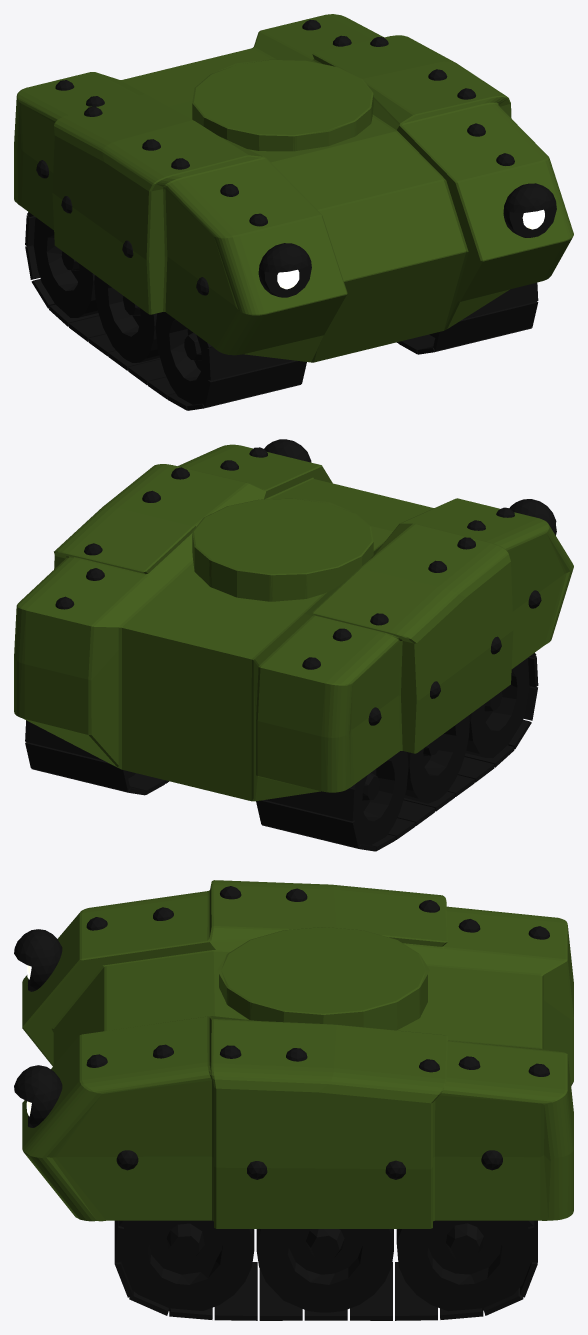
Rendered from tank_green.gltf.
3 views of the same model, one above another, from view 1: azimuth 30°, elevation 25°; view 2: azimuth 150°, elevation 25°; view 3: azimuth 270°, elevation 25° (orthographic). The views are drawn at different scales.
Parts seen in each view (by area): view 1: Base.018, Tracks.017, Wheels.032, Lights.010, Bolts.009; view 2: Base.018, Tracks.017, Wheels.032, Bolts.009, Lights.010; view 3: Base.018, Wheels.032, Tracks.017, Bolts.009, Lights.010.
Boxes of the visible parts, <box> form: Base.018: <box>14,14,573,362</box>; Tracks.017: <box>25,212,538,410</box>; Wheels.032: <box>33,217,436,404</box>; Lights.010: <box>258,183,556,297</box>; Bolts.009: <box>36,19,514,295</box>; Base.018: <box>14,444,573,801</box>; Tracks.017: <box>25,653,538,851</box>; Wheels.032: <box>126,658,530,845</box>; Bolts.009: <box>55,447,541,725</box>; Lights.010: <box>264,439,556,535</box>; Base.018: <box>22,880,573,1228</box>; Wheels.032: <box>120,1220,531,1312</box>; Tracks.017: <box>114,1220,537,1320</box>; Bolts.009: <box>86,886,549,1179</box>; Lights.010: <box>14,929,62,1127</box>.
Bounding box in the file's own units: 1.55 × 0.9074 × 1.75.
